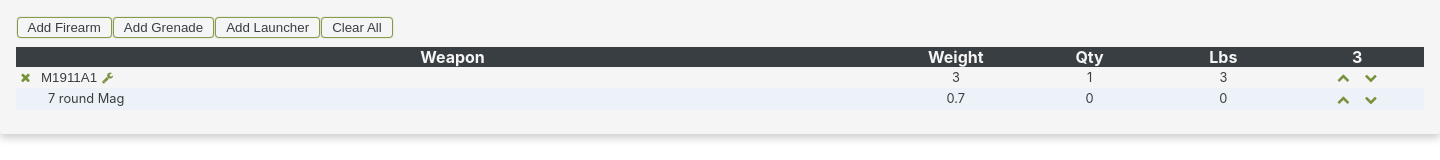
Test: weapons card intergration tests › selecting firearms › should be possible to increase qty of a gun
The width and height of the screenshot is (1440, 160).
Click the 1st button with class "button--up".
click(1343, 77)  # box [1335,69,1351,85]
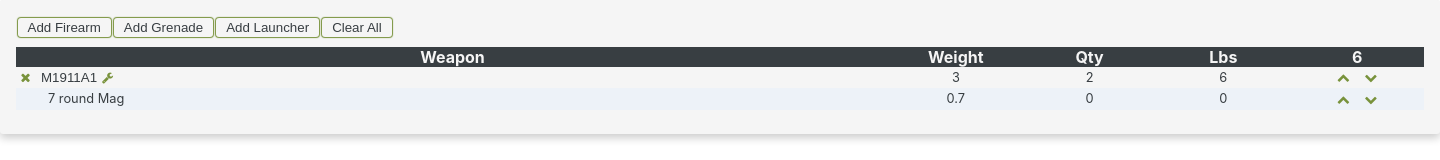
Expected: the element with class "gear-table-row--container" reads "M1911A1 3 2 6", [16,66,1424,88]
